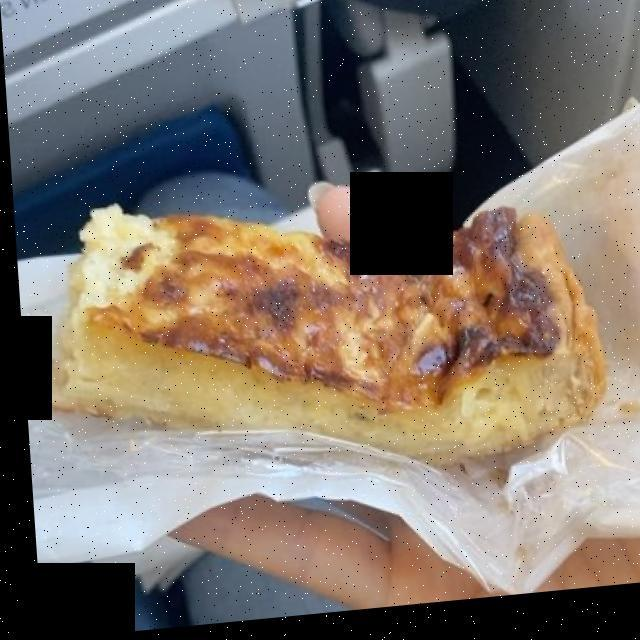quiche: (41, 212, 589, 467)
